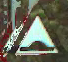Speed Breaker ahead: (0, 2, 59, 61)
